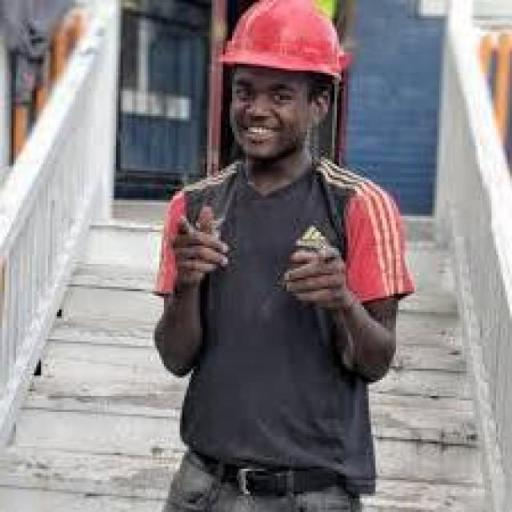helmet: (205, 0, 366, 98)
